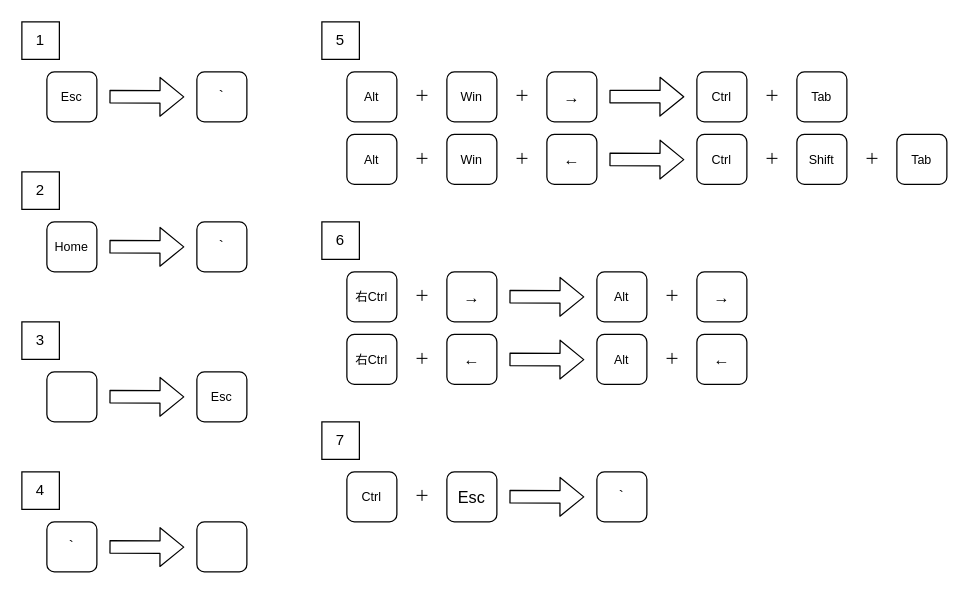
Image size: 969x594. Some labels were removed from this diagram. The shapes that lost their labels are listed below. From the top down, each one's centre as x and y in pixels, then its label:
At (71,396): "End".
At (221,546): "半角/全角 漢字".
